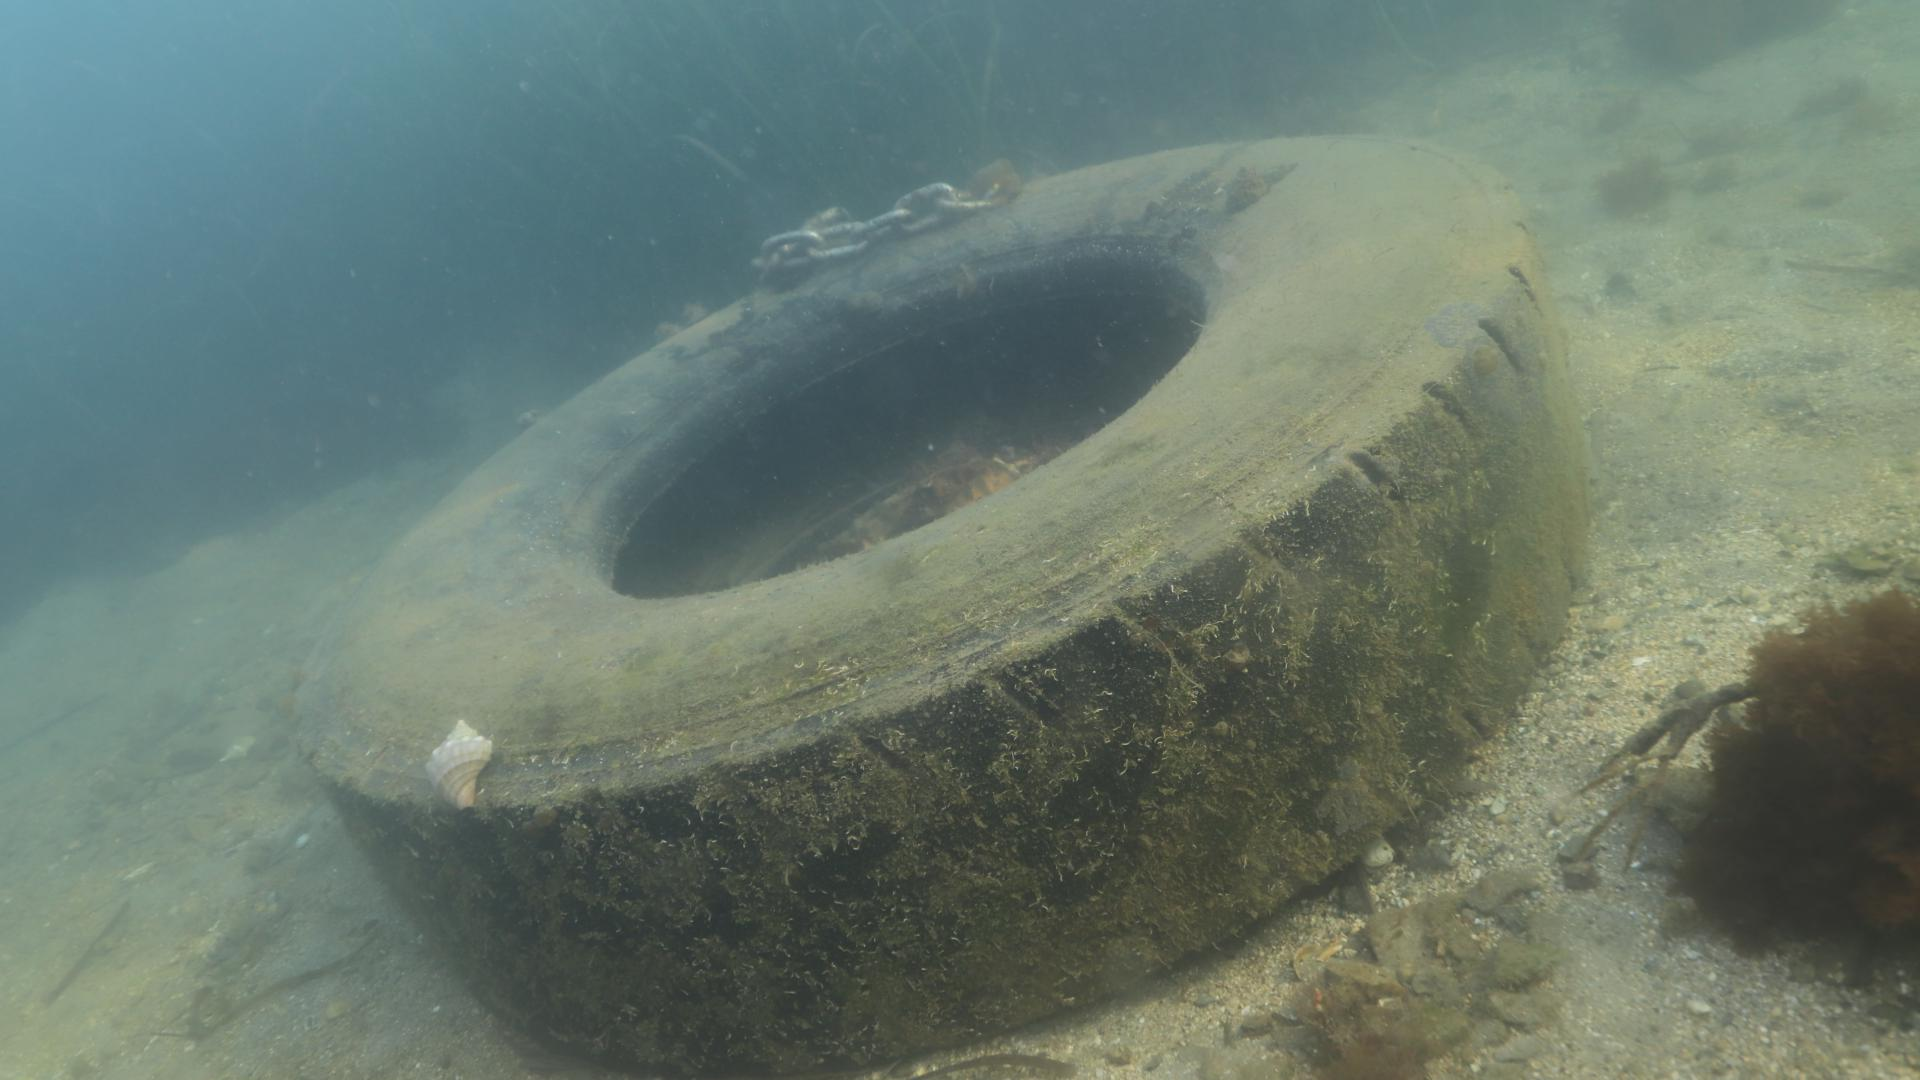tire: (299, 125, 1586, 1080)
